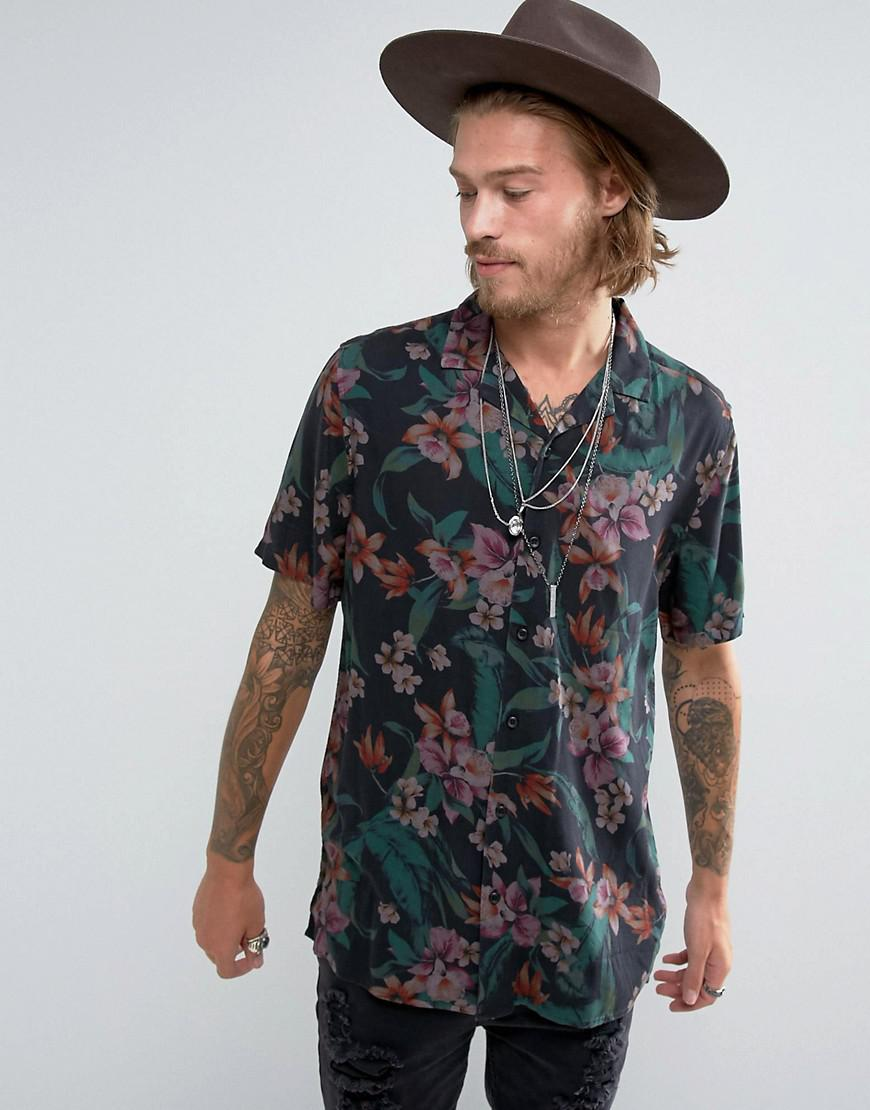teeshirt: (251, 301, 756, 1029)
